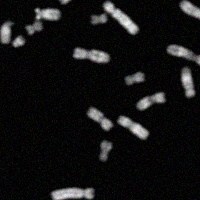chromosome: (102, 0, 139, 36), (167, 44, 200, 70), (117, 115, 150, 138), (178, 0, 200, 32), (86, 107, 113, 131), (73, 47, 111, 64), (51, 186, 97, 200), (135, 91, 167, 110), (181, 66, 196, 97), (36, 4, 62, 21), (124, 71, 145, 86), (0, 20, 13, 44), (99, 140, 113, 162), (57, 0, 102, 5), (90, 14, 107, 26), (27, 22, 42, 34), (12, 36, 26, 48), (176, 198, 199, 200)
